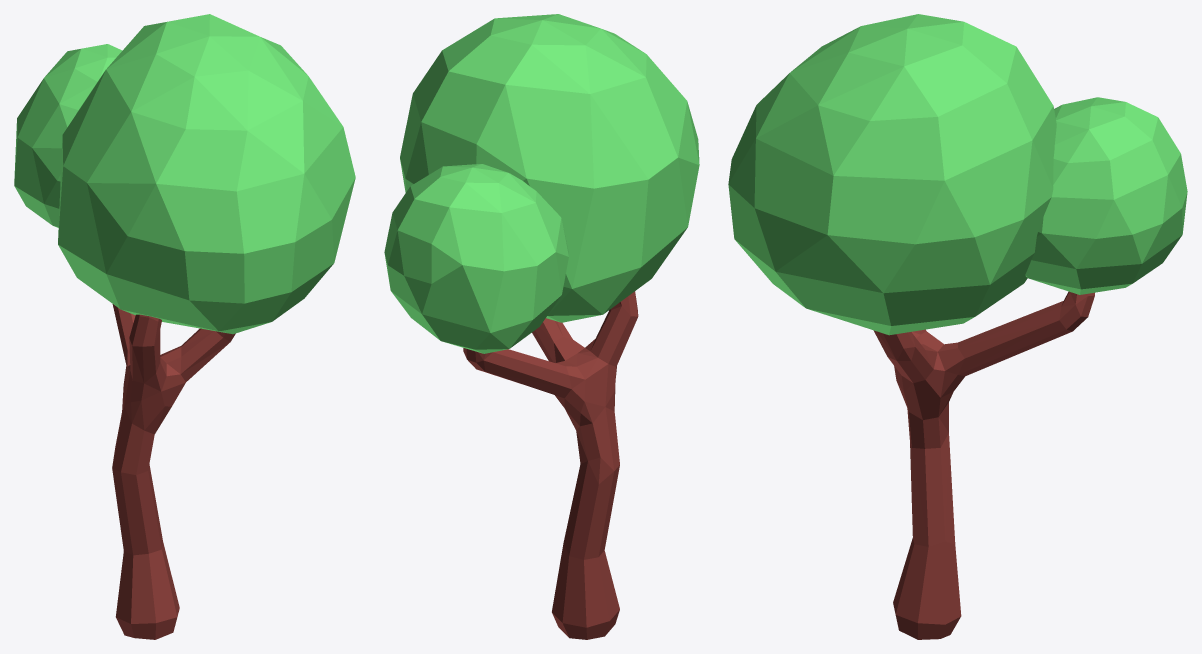
Rendered from Tree1.fbx.
3 renders of one model, left to right at view 1: azimuth 30°, elevation 25°; view 2: azimuth 150°, elevation 25°; view 3: azimuth 270°, elevation 25°, orthographic. The views are drawn at different scales.
Parts seen in each view (by area): view 1: Sphere, Cube, Sphere.001; view 2: Sphere, Sphere.001, Cube; view 3: Sphere, Sphere.001, Cube.
Boxes of the visible parts, x1,y1,x2,y2 form: Sphere: [58, 14, 355, 334]; Cube: [112, 304, 235, 639]; Sphere.001: [14, 44, 122, 227]; Sphere: [400, 14, 699, 322]; Sphere.001: [384, 164, 568, 353]; Cube: [463, 291, 638, 639]; Sphere: [728, 14, 1056, 335]; Sphere.001: [1025, 97, 1187, 294]; Cube: [873, 291, 1094, 639].
Size of the model in its own units: 439 by 989 by 649.
